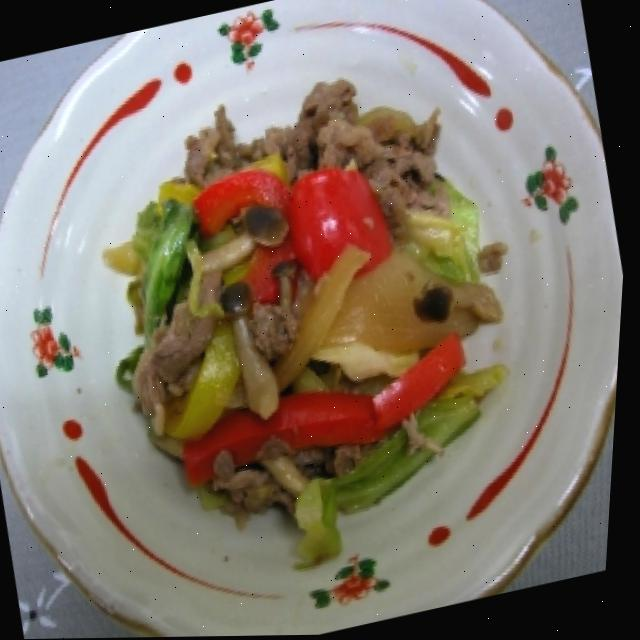蔬菜料理: (47, 21, 569, 592)
